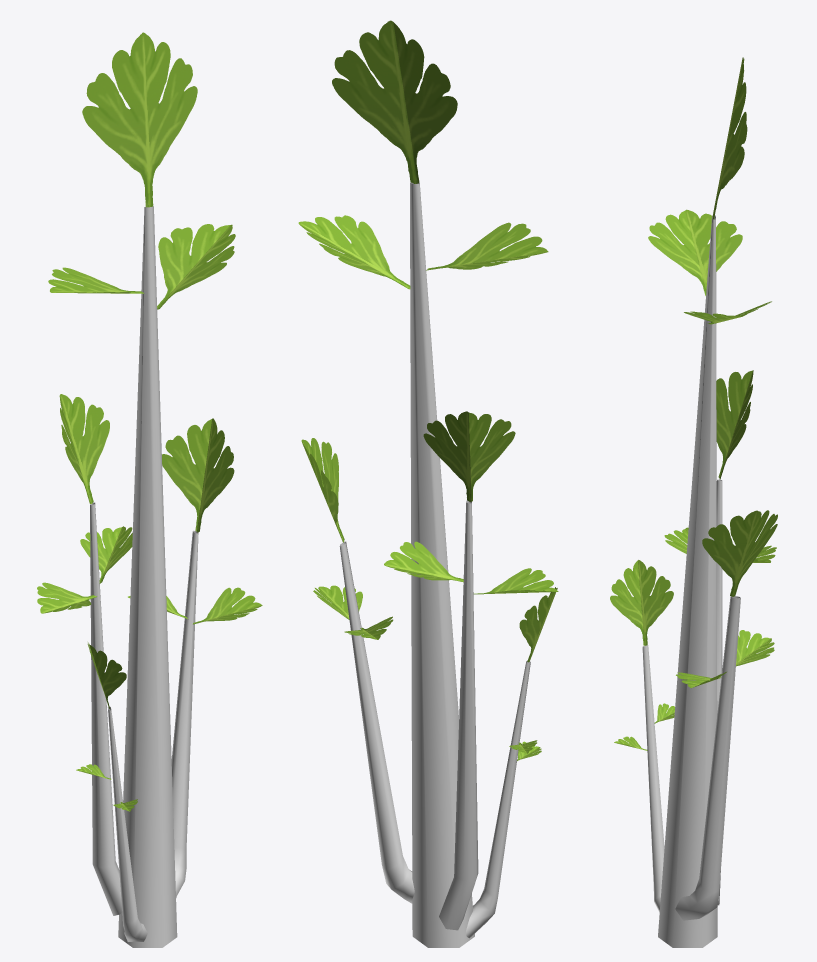
3 renders of one model, left to right at view 1: azimuth 30°, elevation 25°; view 2: azimuth 150°, elevation 25°; view 3: azimuth 270°, elevation 25°, orthographic. The views are drawn at different scales.
Parts seen in each view (by area): view 1: 芹菜01; view 2: 芹菜01; view 3: 芹菜01.
Part boxes in pixels (x1=…): 芹菜01: x1=37, y1=32, x2=262, y2=947; 芹菜01: x1=298, y1=20, x2=558, y2=947; 芹菜01: x1=610, y1=57, x2=777, y2=947.
Size of the model in its own units: 9.46 by 33.06 by 6.9.
2 materials, 1 textured.
